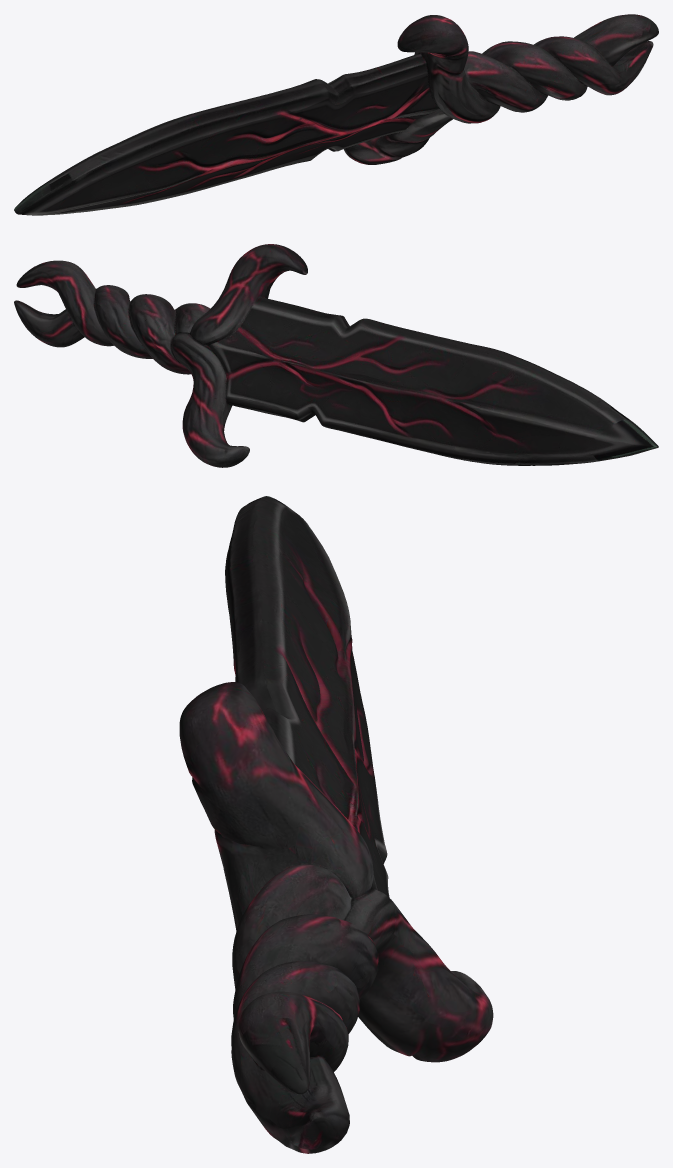
File: hf_evildagger.glb
3 views of the same model, one above another, from view 1: azimuth 30°, elevation 25°; view 2: azimuth 150°, elevation 25°; view 3: azimuth 270°, elevation 25° (orthographic). The views are drawn at different scales.
Size of the model in its own units: 2.61 by 0.7148 by 0.5614.
Materials: 1 (1 with a texture image).
